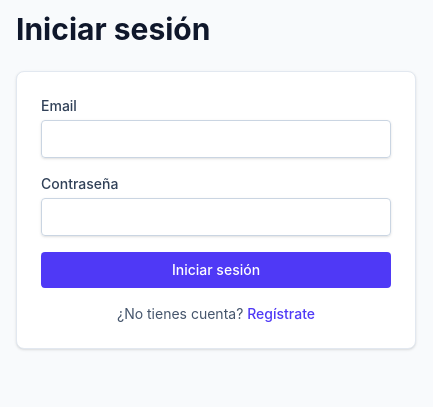
it: LoginPage › muestra errores y no intenta iniciar sesión con el formulario vacío
Click the button "Iniciar sesión".
click(216, 270)  # box [41,252,391,288]
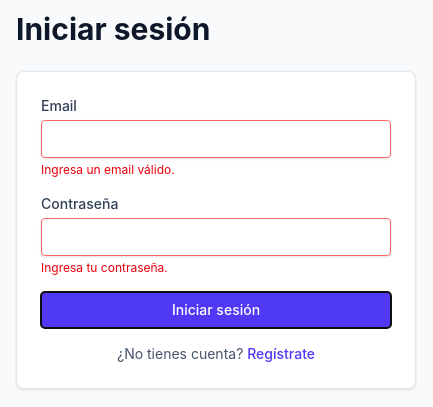
Now the text "Ingresa un email válido." is shown, box [41,162,175,177]
